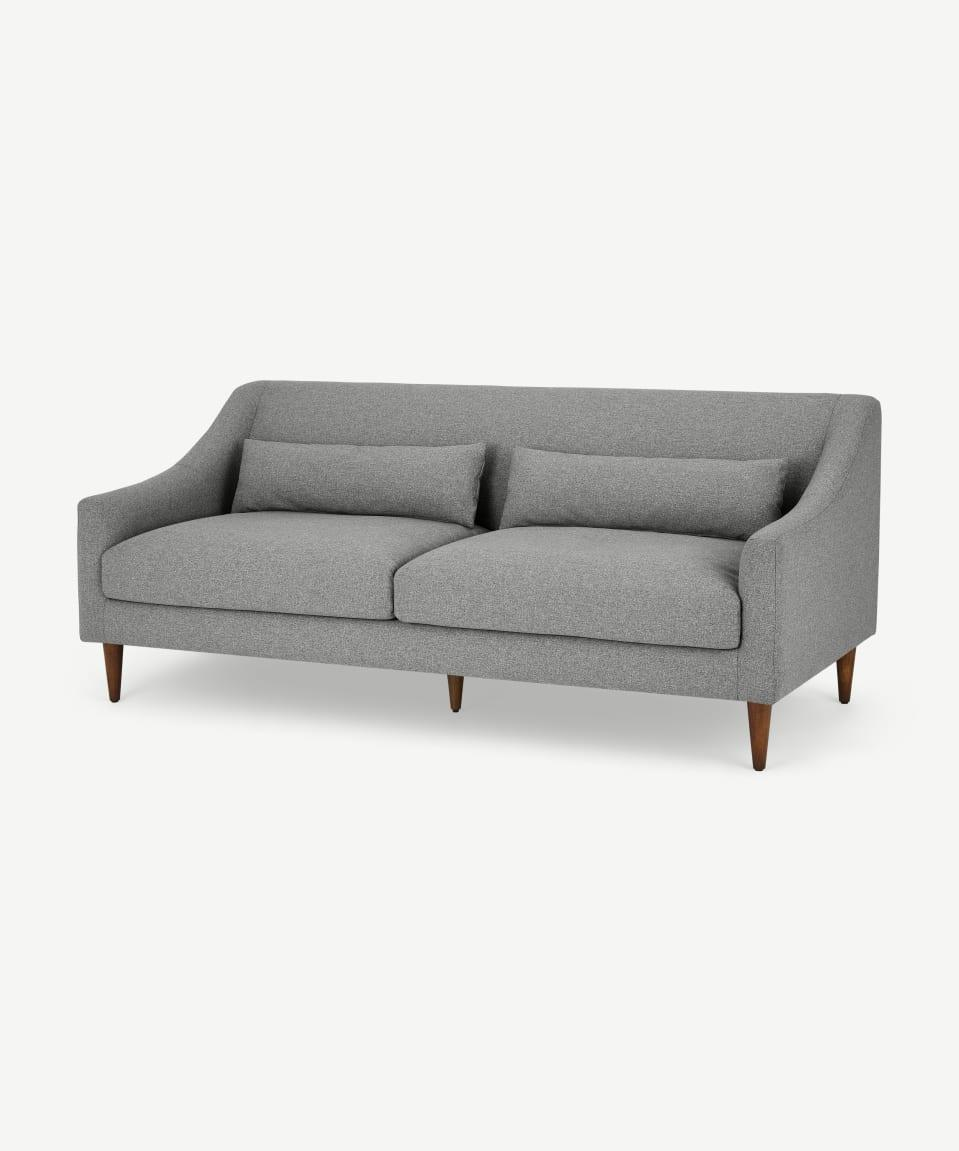couch: (70, 378, 877, 770)
